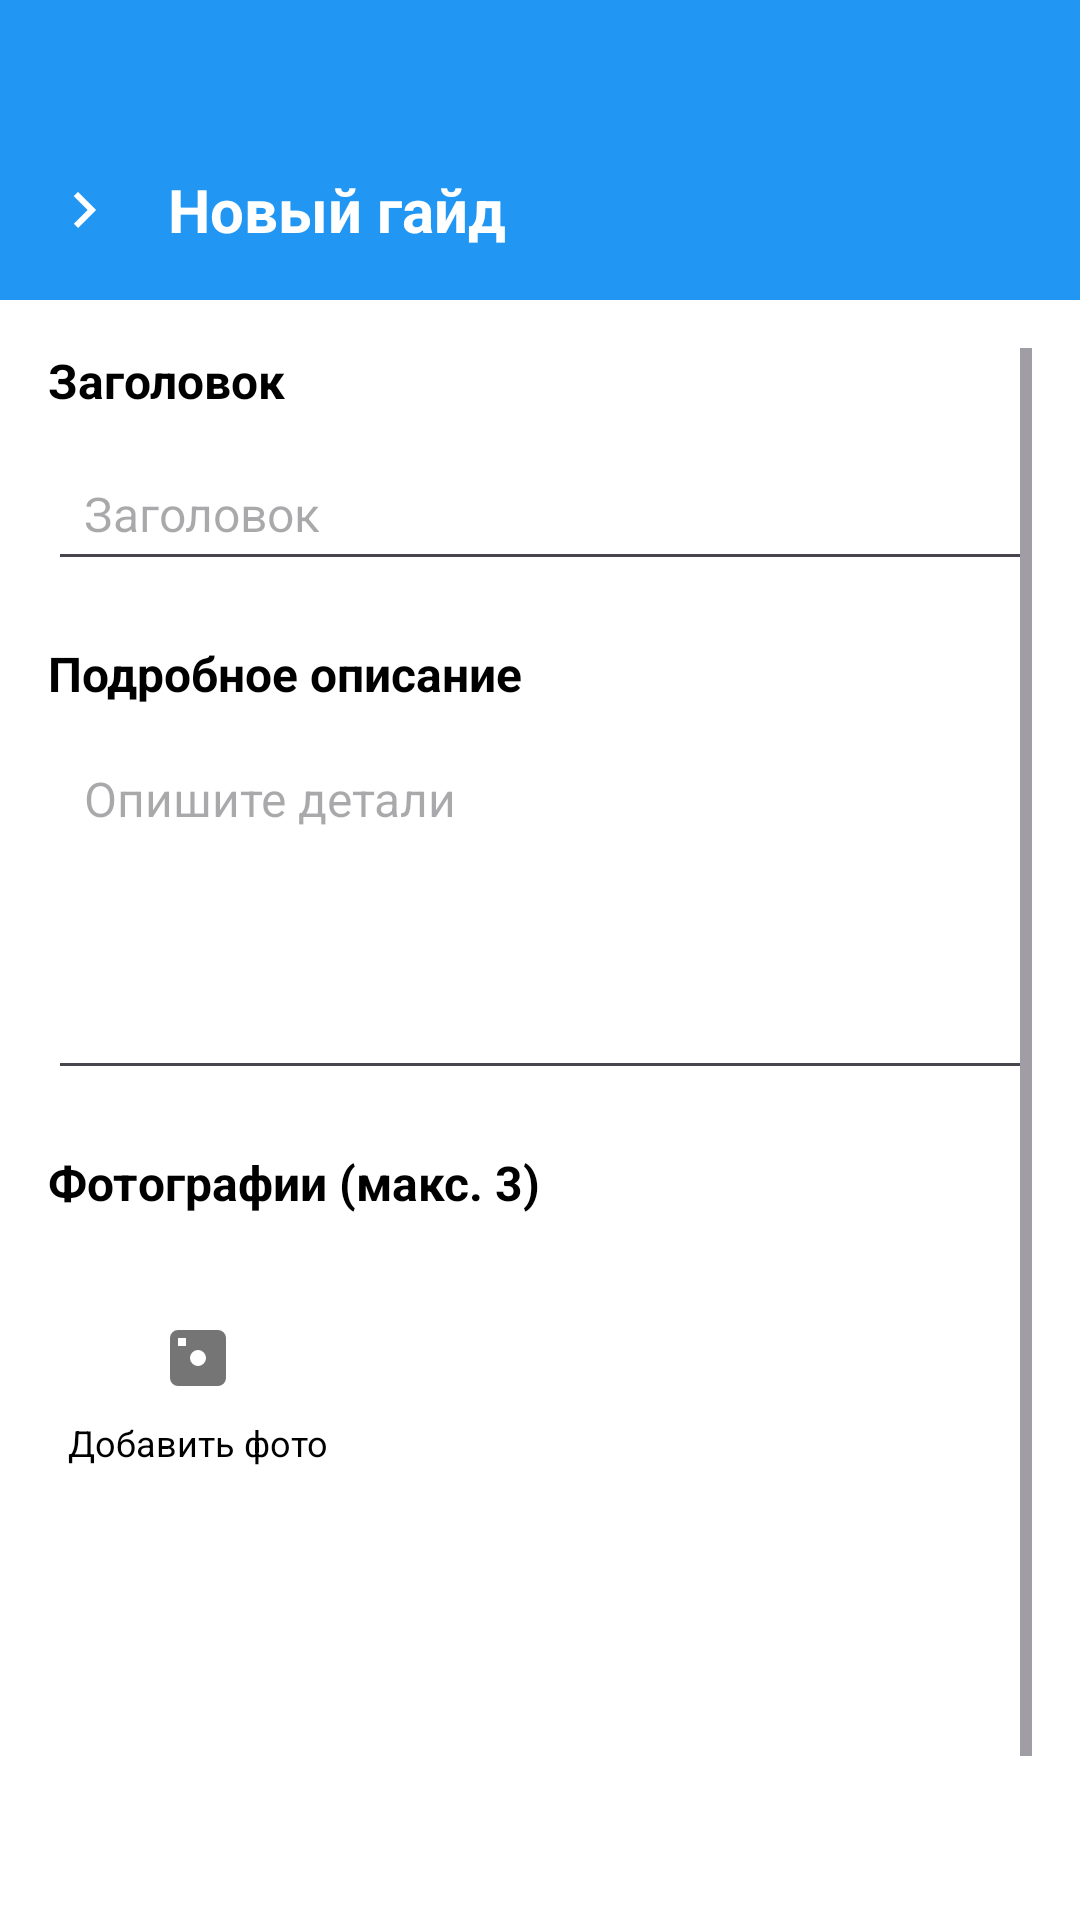

Icons on this 1080×1920 Android screen, each with its box as (left=x1, top=y1, right=x2, bottom=y2):
arrow right: (left=74, top=192, right=96, bottom=228)
camera: (left=170, top=1330, right=226, bottom=1386)
